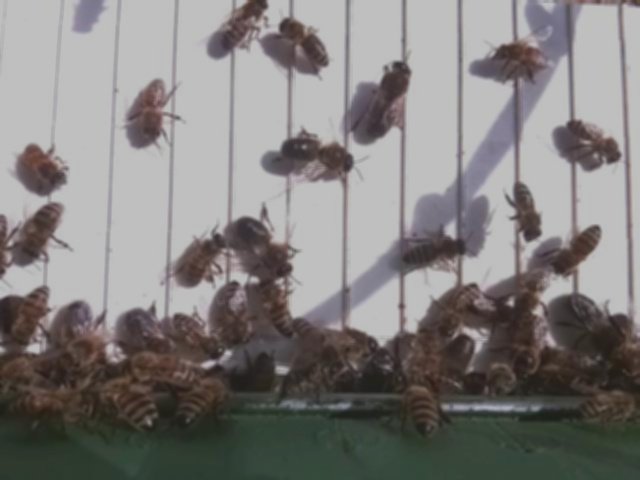Drone: (233, 212, 296, 281), (366, 57, 414, 142), (279, 132, 359, 173)
Worker: (279, 15, 334, 69), (22, 197, 68, 261), (566, 116, 626, 165), (172, 307, 227, 358), (219, 0, 272, 52), (256, 276, 299, 339), (185, 228, 230, 288), (436, 276, 478, 340), (489, 39, 555, 78), (557, 222, 604, 276), (15, 282, 53, 345), (402, 233, 470, 267), (224, 275, 254, 349), (25, 141, 70, 189), (140, 74, 170, 142), (514, 177, 544, 244)
